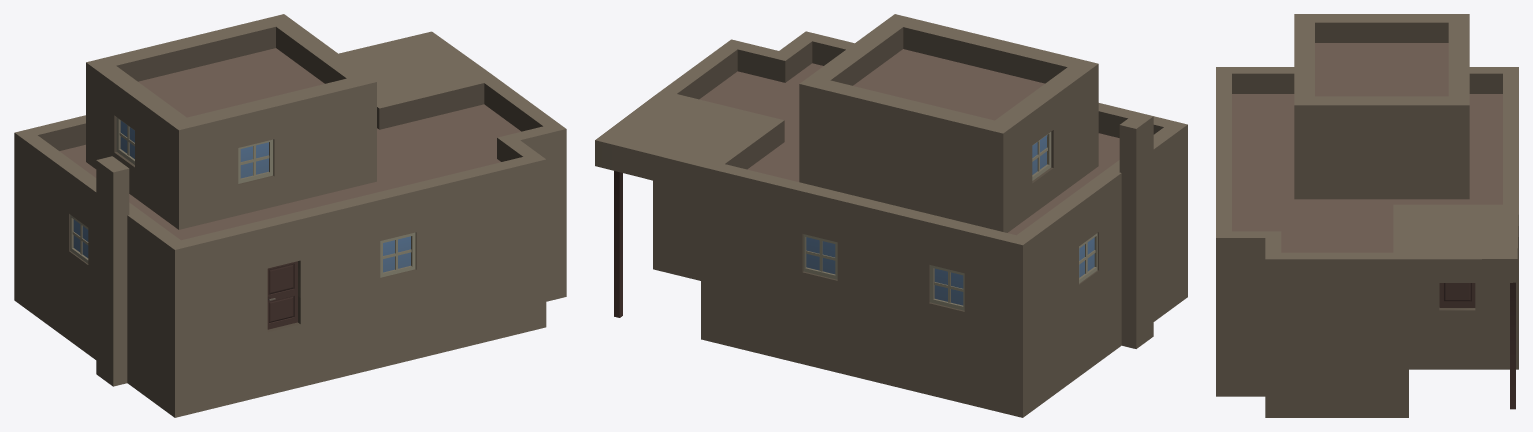
3 views of the same model, side by side, from view 1: azimuth 30°, elevation 25°; view 2: azimuth 150°, elevation 25°; view 3: azimuth 270°, elevation 25° (orthographic). The views are drawn at different scales.
Visible parts, largest first — view 1: base.282; view 2: base.282; view 3: base.282.
Part boxes in pixels (left/top/right/bottom): base.282: left=14, top=14, right=566, bottom=417; base.282: left=595, top=14, right=1187, bottom=417; base.282: left=1216, top=14, right=1518, bottom=417.
Bounding box in the file's own units: 0.5 × 0.2724 × 0.3216.
